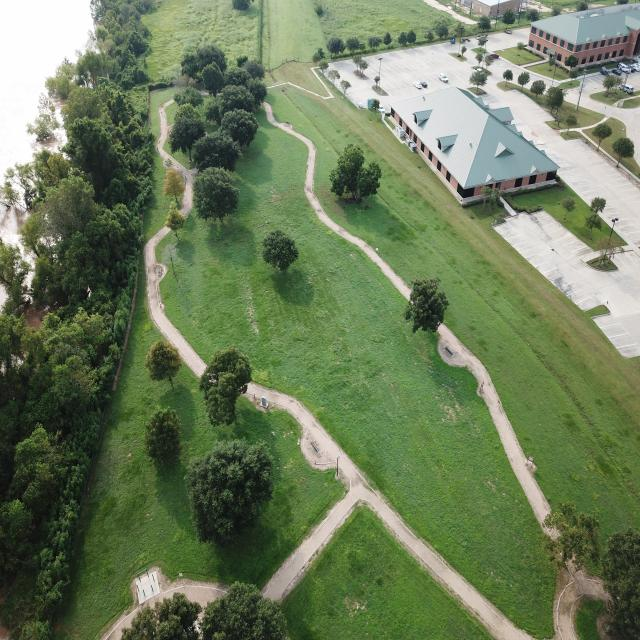fire: (0, 0, 92, 182)
